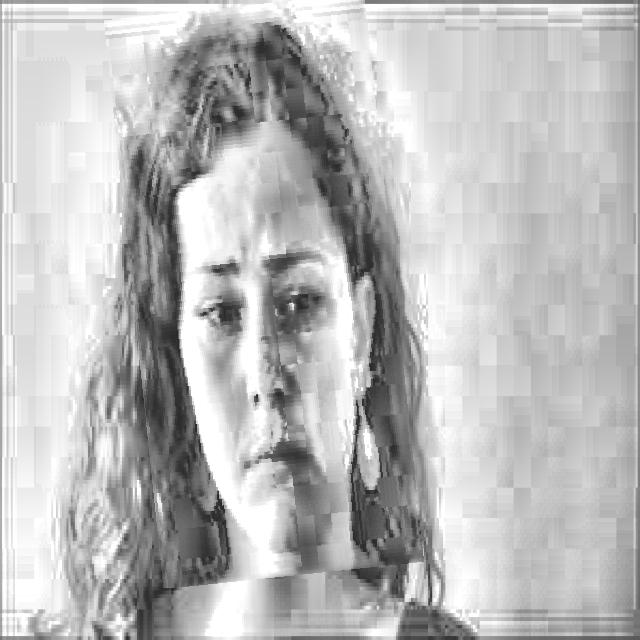sad: (119, 0, 410, 582)
